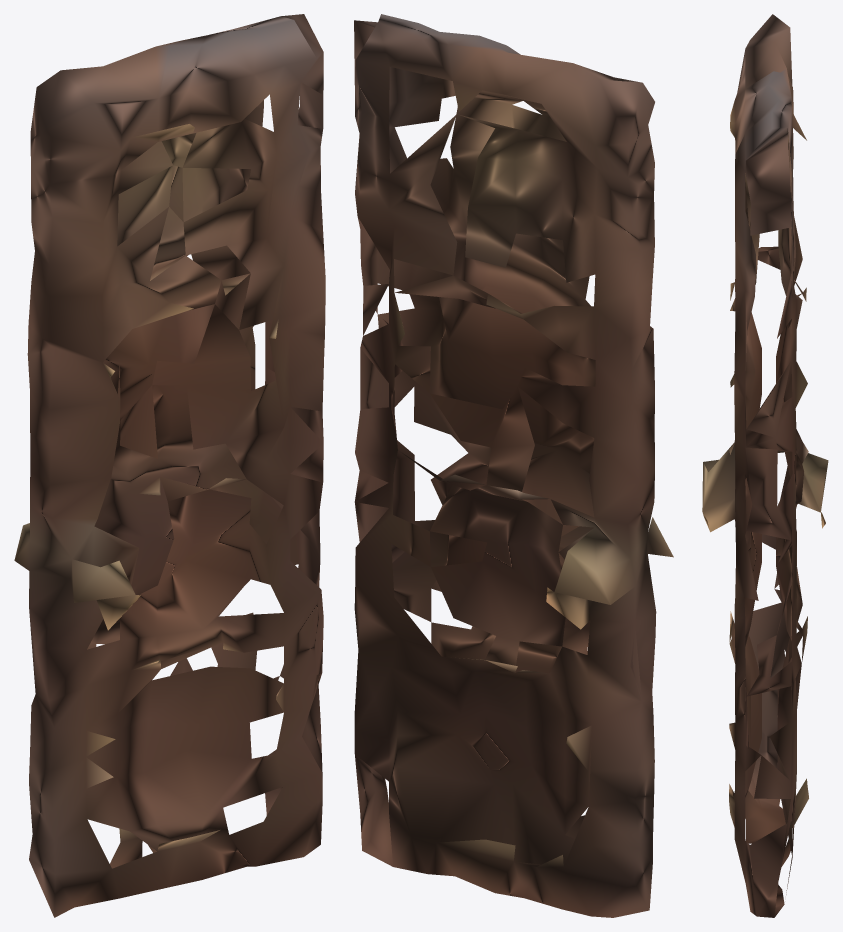
Rendered from civic_city-gate-door.glb.
The picture shows the model from 3 angles, left to right: view 1: azimuth 30°, elevation 25°; view 2: azimuth 150°, elevation 25°; view 3: azimuth 270°, elevation 25°; orthographic projection. The views are drawn at different scales.
Visible parts, largest first — view 1: geometry_0; view 2: geometry_0; view 3: geometry_0.
Boxes of the visible parts, x1,y1,x2,y2 form: geometry_0: (14, 14, 325, 917); geometry_0: (354, 14, 673, 917); geometry_0: (702, 14, 828, 917).
Size of the model in its own units: 0.9166 by 2.6 by 0.3788.
